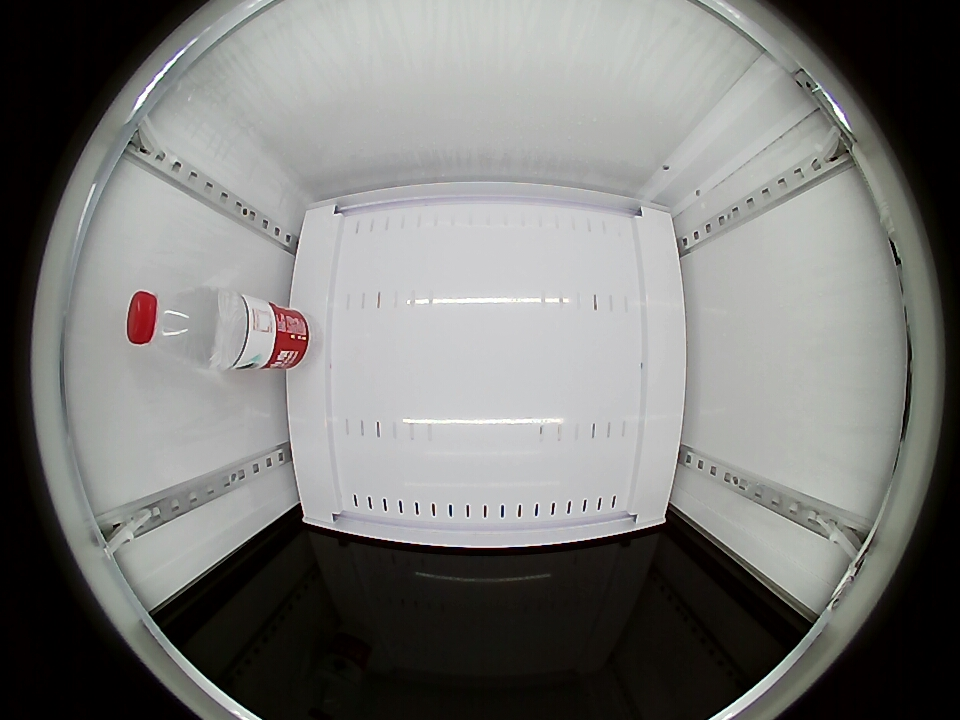nongfushanquan: (126, 287, 223, 369)
